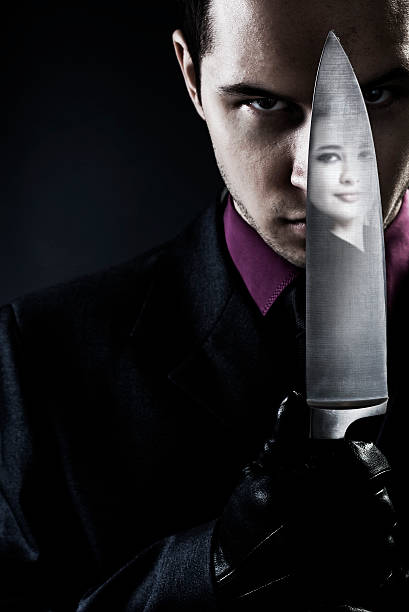knife: (303, 26, 387, 446)
